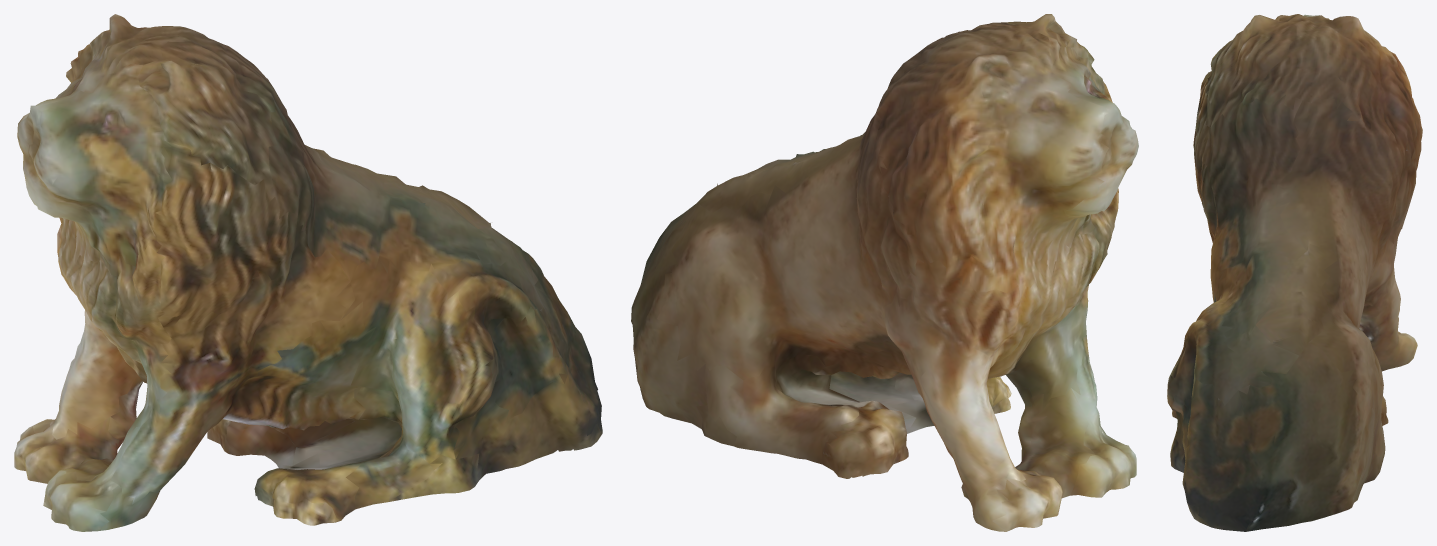
Rendered from marble-lion.glb.
3 renders of one model, left to right at view 1: azimuth 30°, elevation 25°; view 2: azimuth 150°, elevation 25°; view 3: azimuth 270°, elevation 25°, orthographic. The views are drawn at different scales.
Visible parts, largest first — view 1: Lion.Marble_0; view 2: Lion.Marble_0; view 3: Lion.Marble_0.
Part boxes in pixels (<box>): Lion.Marble_0: <box>14,14,602,531</box>; Lion.Marble_0: <box>631,14,1138,531</box>; Lion.Marble_0: <box>1167,14,1422,531</box>.
Size of the model in its own units: 1.6 by 1.29 by 0.8396.
Materials: 1 (1 with a texture image).
